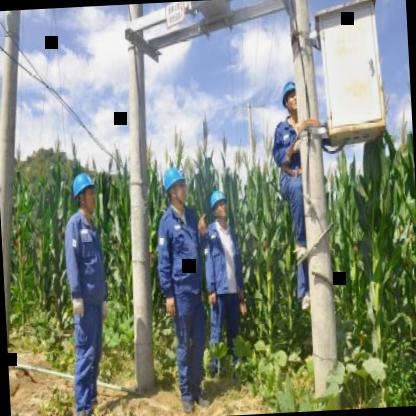helmet: (160, 162, 189, 213), (69, 167, 99, 216), (278, 76, 300, 122), (208, 186, 231, 224)
